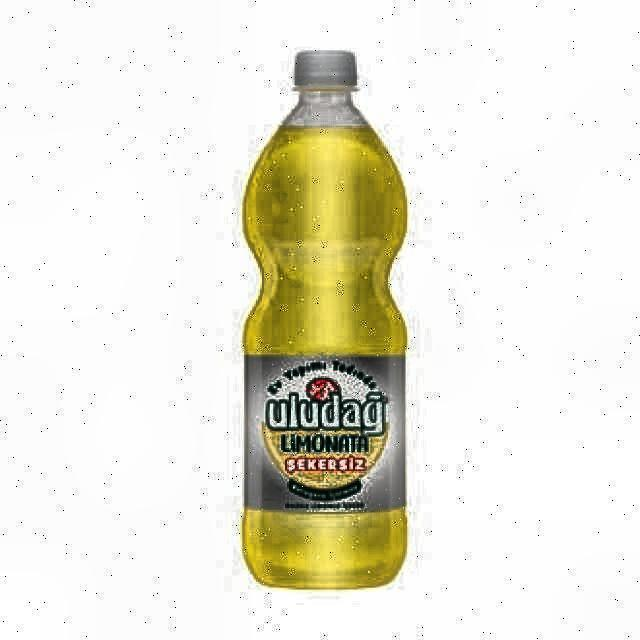plastic: (241, 49, 409, 594)
